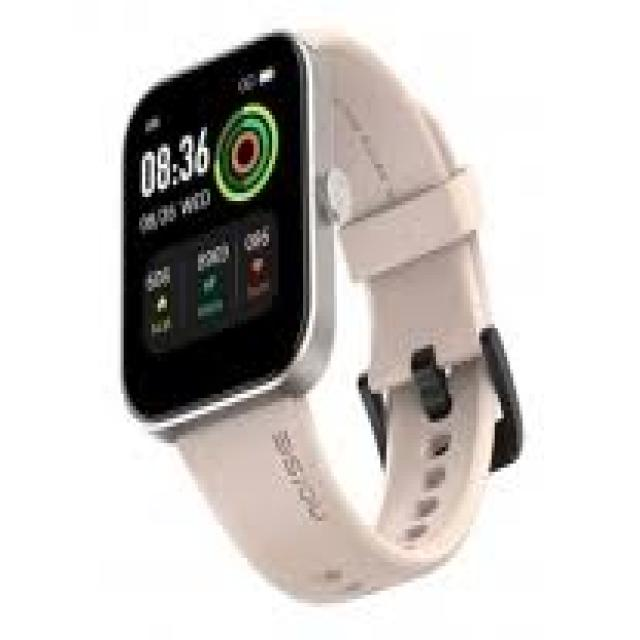objects: (121, 29, 519, 608)
